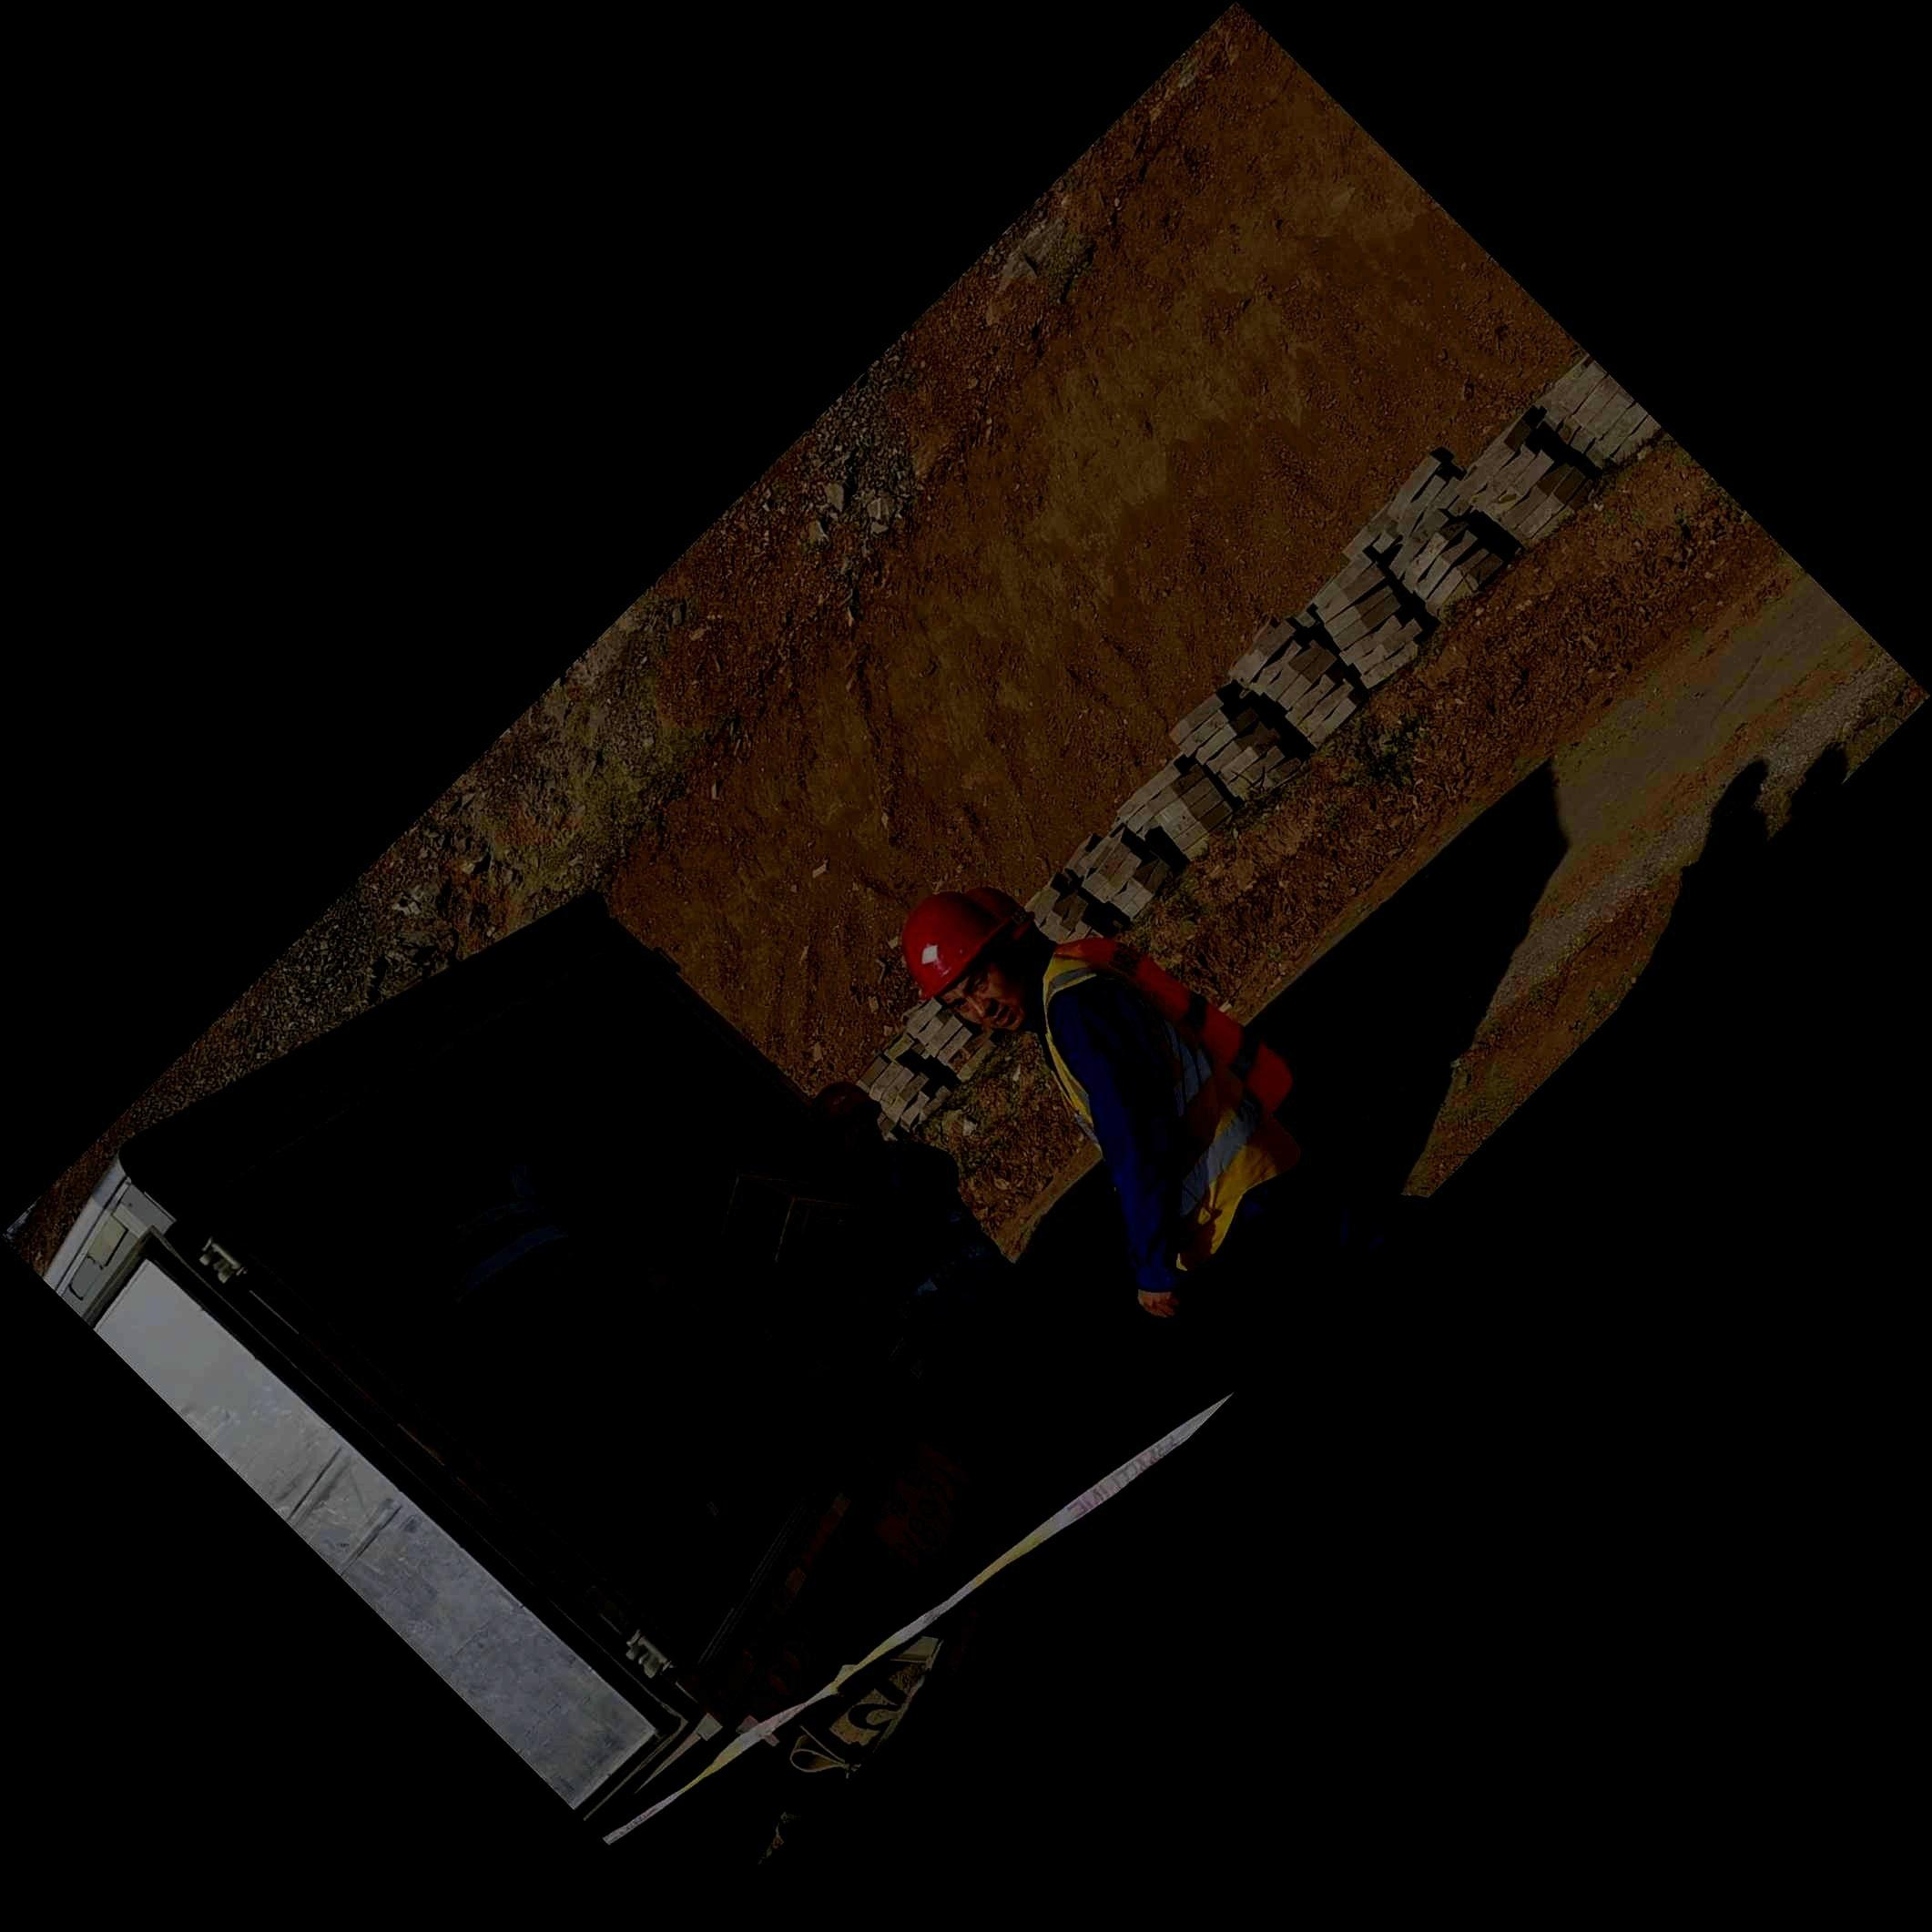helmet: (899, 890, 1033, 1031), (961, 886, 1046, 968)
